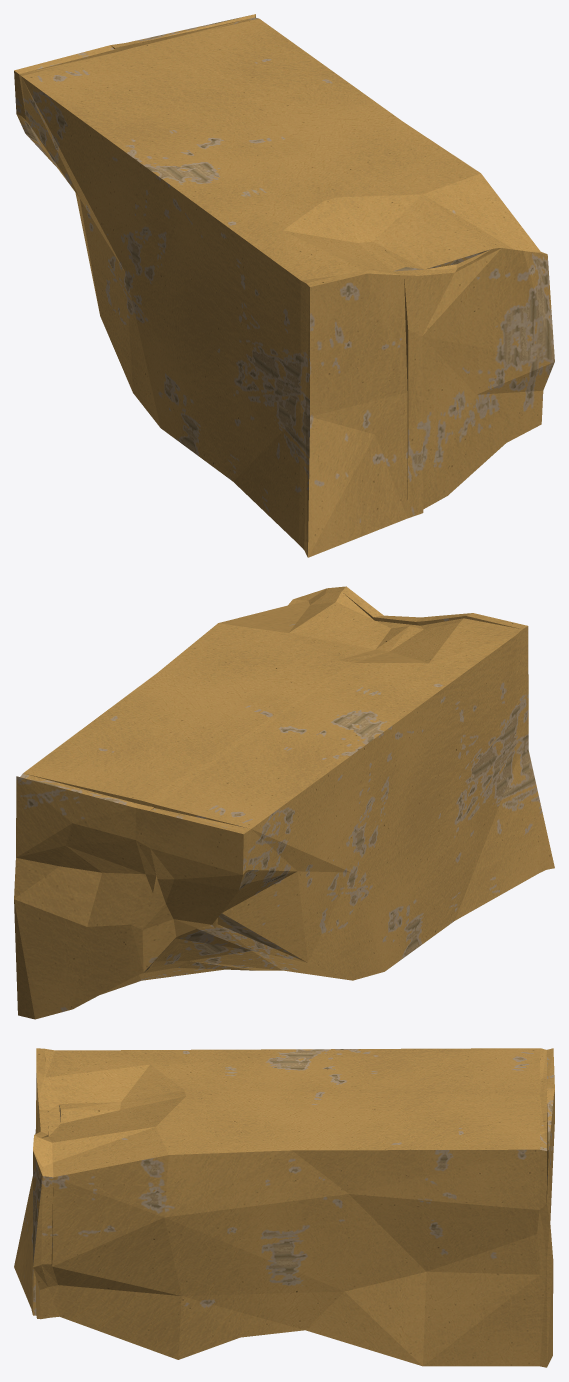
File: boxes2.obj
3 renders of one model, top to bottom at view 1: azimuth 30°, elevation 25°; view 2: azimuth 150°, elevation 25°; view 3: azimuth 270°, elevation 25°, orthographic. The views are drawn at different scales.
Parts seen in each view (by area): view 1: BOX1; view 2: BOX1; view 3: BOX1.
Part boxes in pixels (x1,y1,x2,y2): BOX1: [14, 14, 554, 557]; BOX1: [14, 586, 554, 1019]; BOX1: [14, 1048, 554, 1367].
Size of the model in its own units: 1.26 by 1.16 by 2.52.
